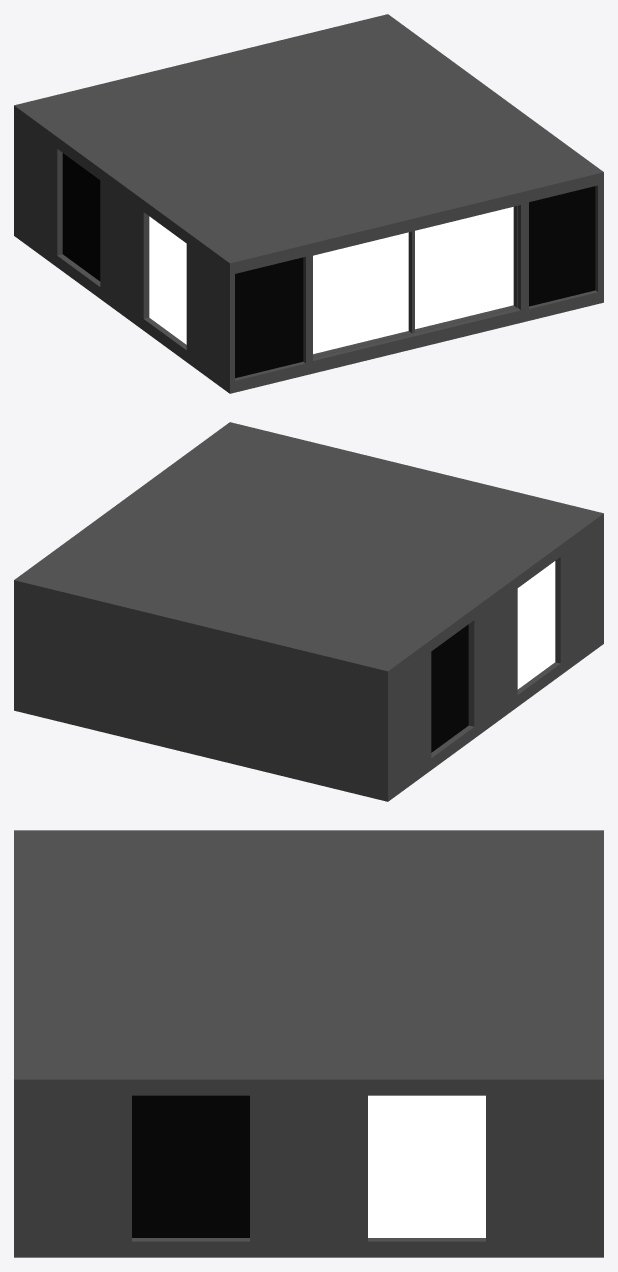
File: 30x30x10Milieu2.fbx
3 renders of one model, top to bottom at view 1: azimuth 30°, elevation 25°; view 2: azimuth 150°, elevation 25°; view 3: azimuth 270°, elevation 25°, orthographic. The views are drawn at different scales.
Visible parts, largest first — view 1: Cube.035; view 2: Cube.035; view 3: Cube.035.
Part boxes in pixels (x1,y1,x2,y2): Cube.035: [14, 14, 603, 393]; Cube.035: [14, 422, 603, 801]; Cube.035: [14, 830, 603, 1257].
Size of the model in its own units: 3000 by 1000 by 3000.
